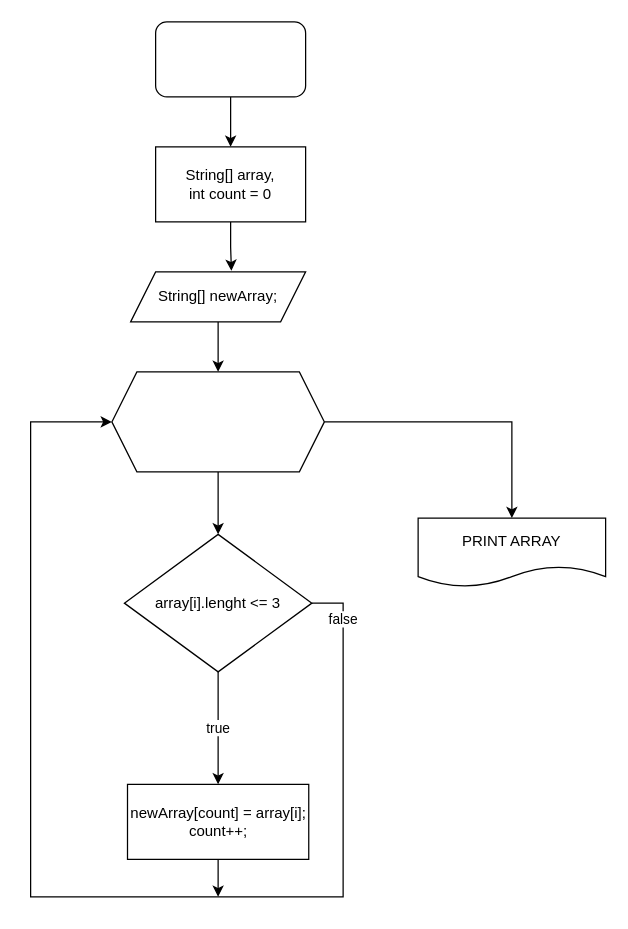
The diagram is 628 pixels wide and 929 high, and some of its shapes have lost their labels. The shapes that lost their labels are listed below. From the top down, each one's centre as x and y in pixels, then its label:
pixel 230 59: START
pixel 217 421: i =0; array.lenght; 1
